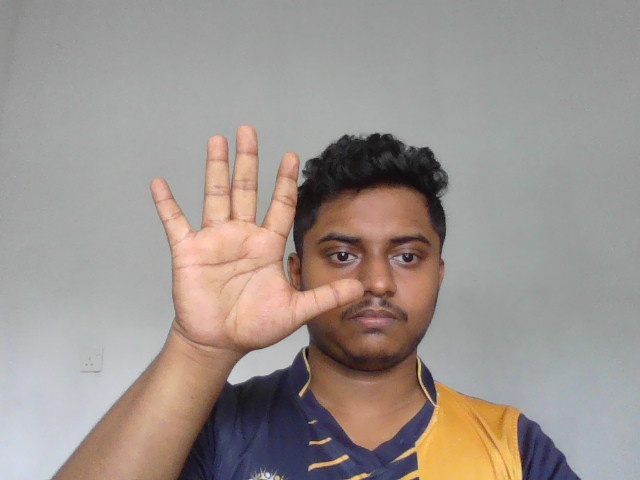Hello: (148, 121, 365, 355)
